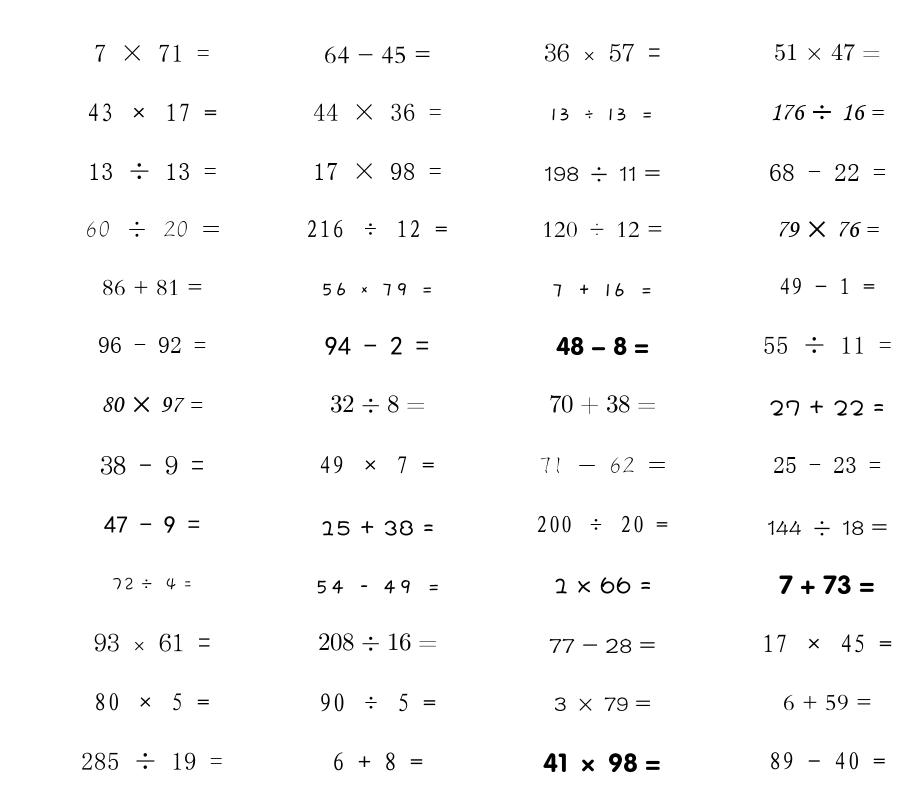MQ: (306, 220, 448, 238), (81, 752, 223, 770), (87, 103, 217, 122), (762, 634, 892, 653), (536, 515, 668, 533), (543, 753, 661, 773), (313, 103, 442, 121), (88, 162, 217, 180), (763, 336, 892, 354), (544, 43, 661, 62), (94, 633, 211, 652), (319, 693, 436, 712), (313, 163, 442, 180), (85, 221, 220, 237), (539, 457, 666, 474), (318, 633, 437, 651), (549, 395, 656, 415), (769, 752, 886, 770), (94, 44, 210, 62), (319, 456, 435, 474), (94, 693, 210, 711), (100, 455, 204, 475), (542, 221, 663, 238), (769, 164, 886, 181), (325, 336, 429, 355), (770, 104, 884, 121), (767, 520, 888, 536), (324, 46, 431, 64), (774, 43, 881, 61), (779, 575, 875, 595), (544, 166, 661, 182), (556, 336, 649, 356), (769, 400, 885, 416), (320, 520, 434, 536), (314, 580, 441, 594), (776, 221, 879, 238), (101, 396, 203, 413), (332, 752, 423, 771), (779, 277, 875, 295), (98, 337, 206, 353), (773, 457, 881, 473), (102, 279, 203, 296), (330, 395, 425, 413), (553, 577, 652, 594), (104, 516, 200, 533), (549, 638, 656, 653), (320, 282, 434, 296), (783, 694, 872, 711), (551, 283, 653, 297), (554, 697, 651, 711), (550, 108, 654, 121), (111, 577, 193, 591)
